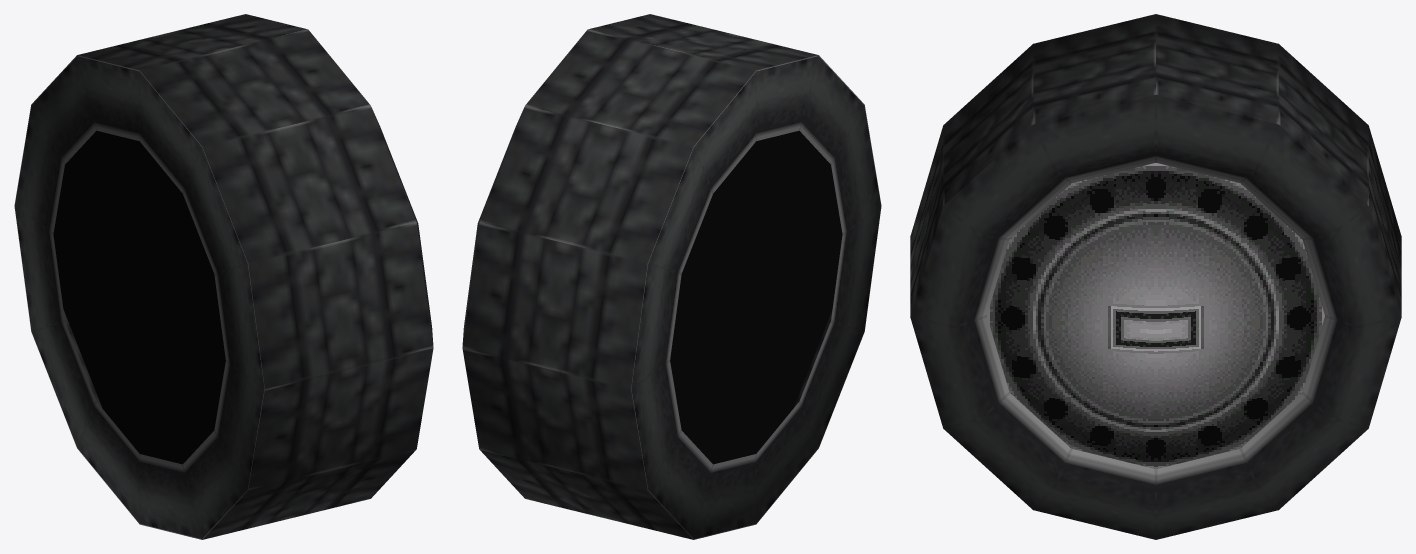
Rendered from DefaultWheel_esperant.glb.
The picture shows the model from 3 angles, left to right: view 1: azimuth 30°, elevation 25°; view 2: azimuth 150°, elevation 25°; view 3: azimuth 270°, elevation 25°; orthographic projection.
Parts seen in each view (by area): view 1: wheel; view 2: wheel; view 3: wheel.
Boxes of the visible parts, left/top/right/bottom form: wheel: left=14, top=14, right=433, bottom=539; wheel: left=462, top=14, right=881, bottom=539; wheel: left=910, top=14, right=1401, bottom=539.
Size of the model in its own units: 0.2963 by 0.6431 by 0.6431.
3 materials, 3 textured.
